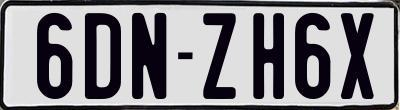6: (292, 13, 328, 101), (35, 13, 71, 100)
D: (85, 12, 125, 102)
H: (250, 12, 285, 99)
N: (131, 12, 169, 104)
X: (338, 12, 372, 99)
Z: (203, 10, 236, 98)
